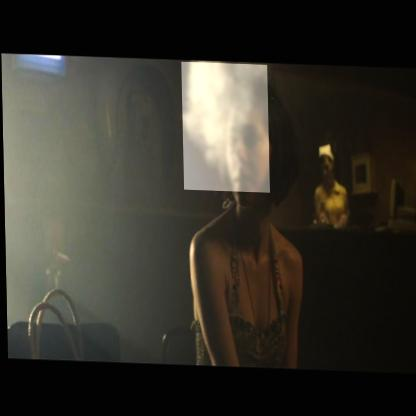smoke: (181, 60, 269, 191)
